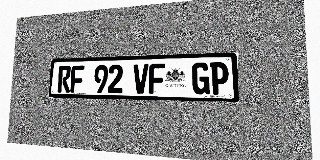2: (108, 64, 123, 93)
9: (94, 65, 108, 93)
F: (149, 63, 165, 94), (70, 65, 84, 93)
G: (192, 62, 210, 94)
P: (210, 62, 229, 95)
R: (57, 66, 71, 92)
V: (133, 64, 148, 93)
